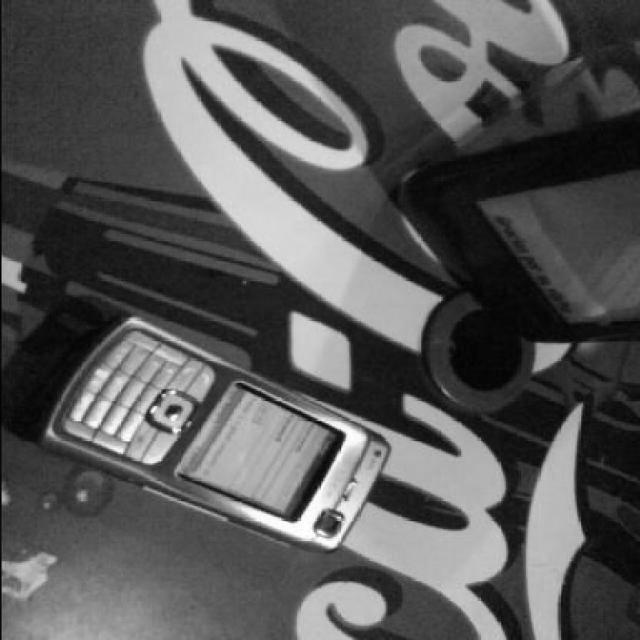fake: (33, 316, 390, 552)
